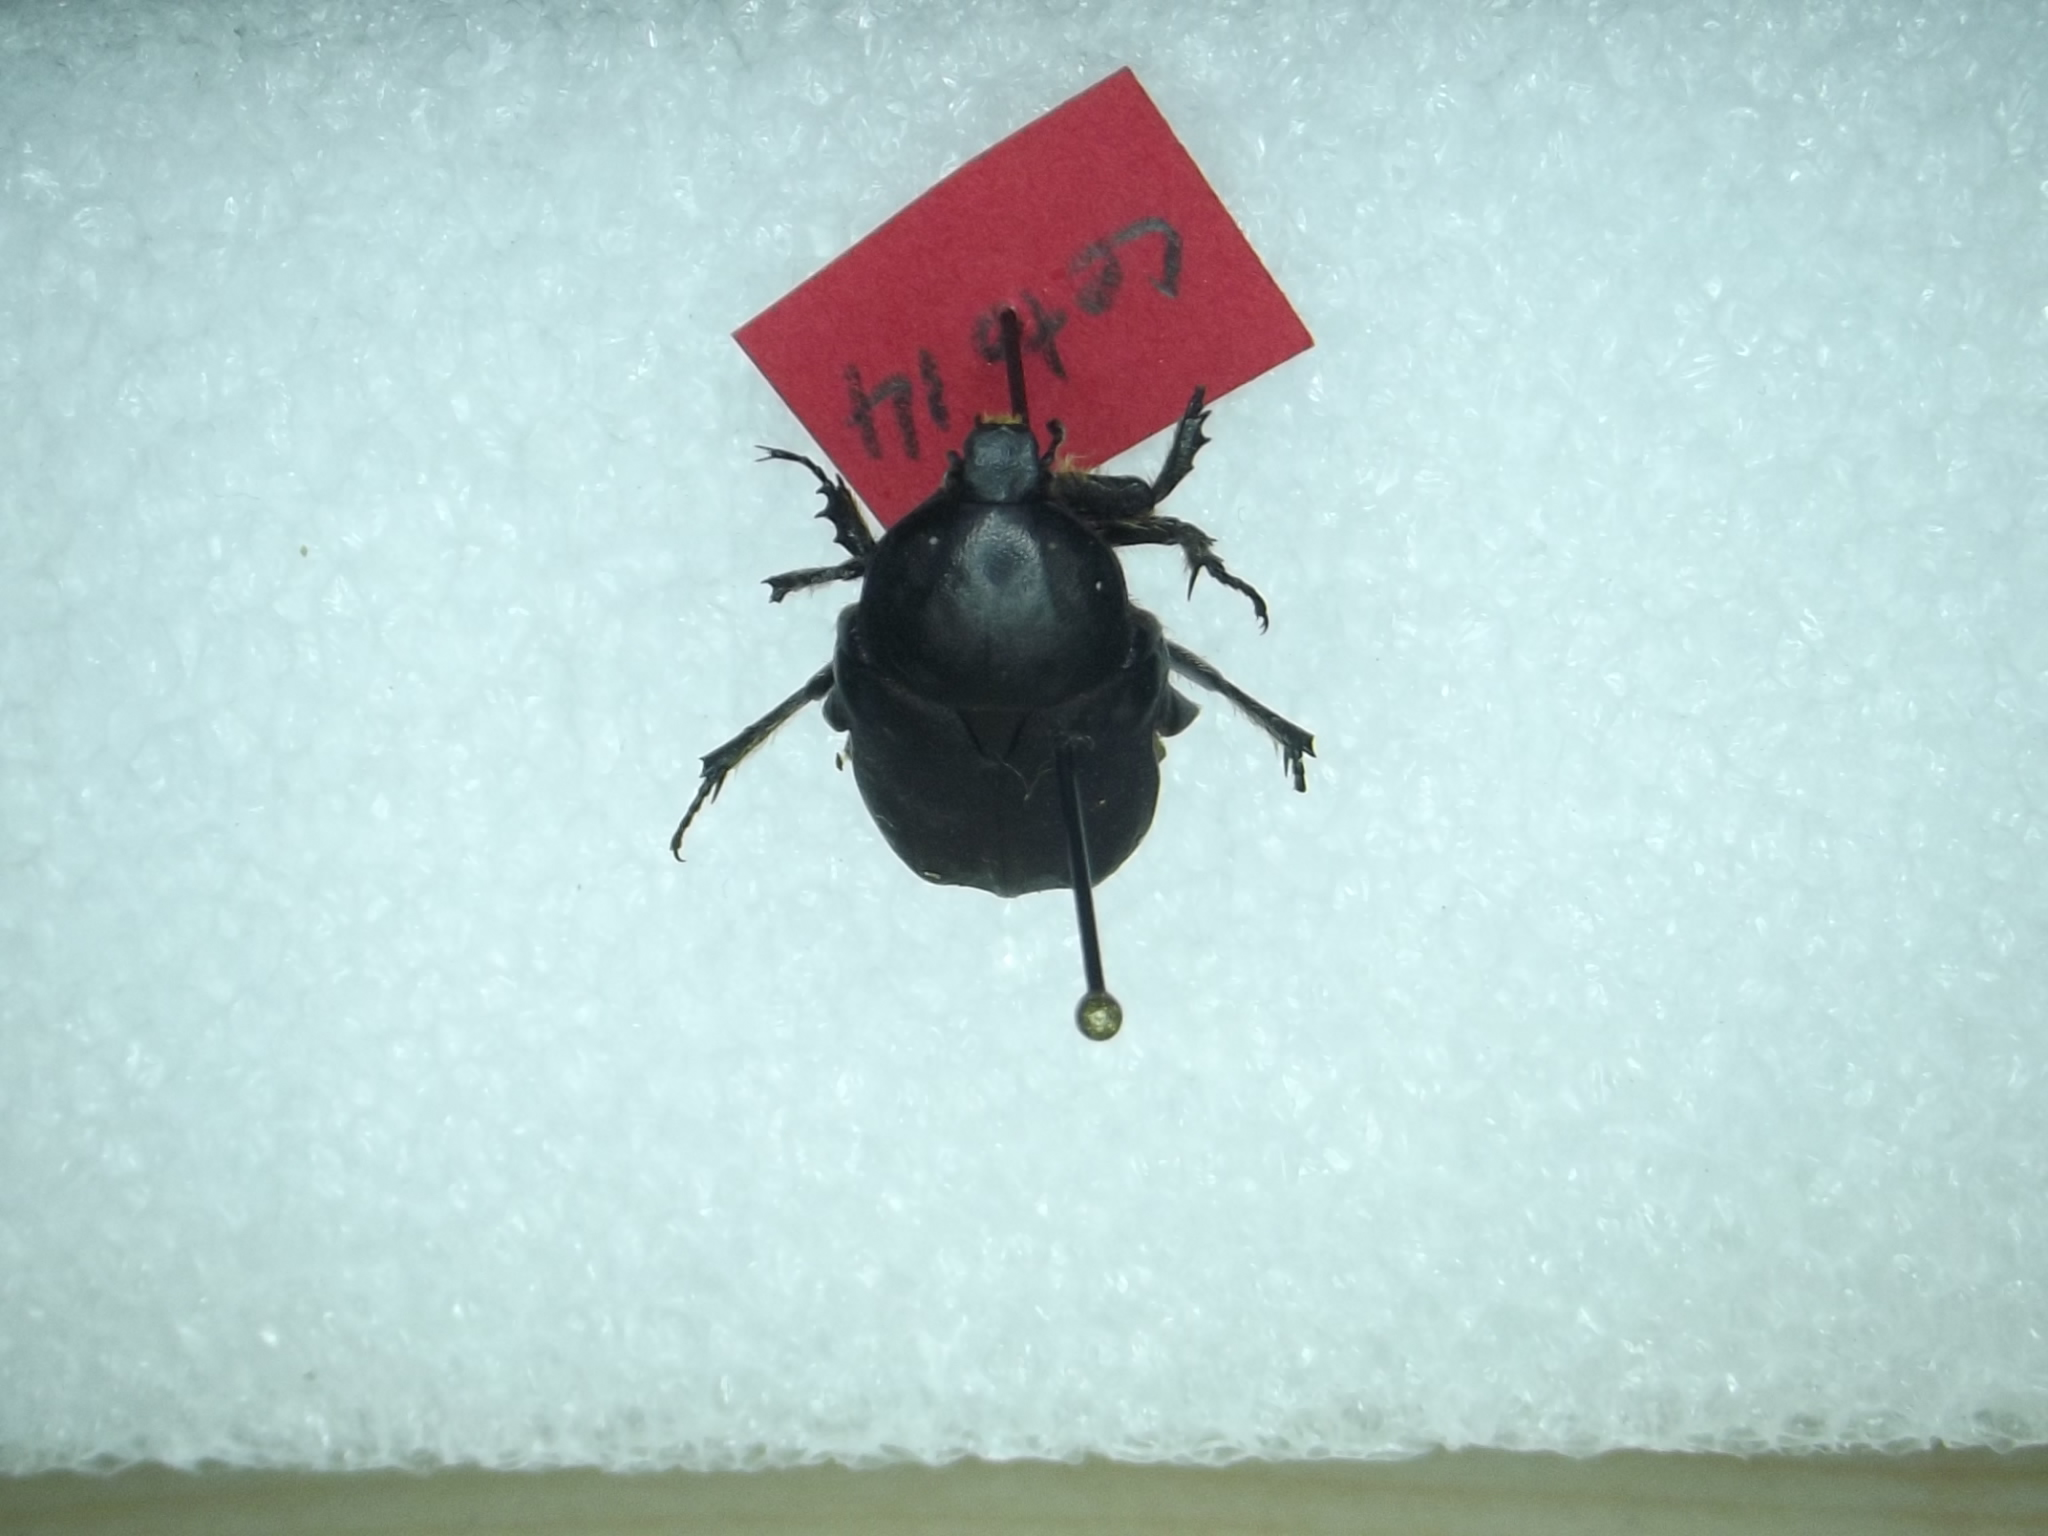Protaetia_vidua: (658, 374, 1329, 921)
